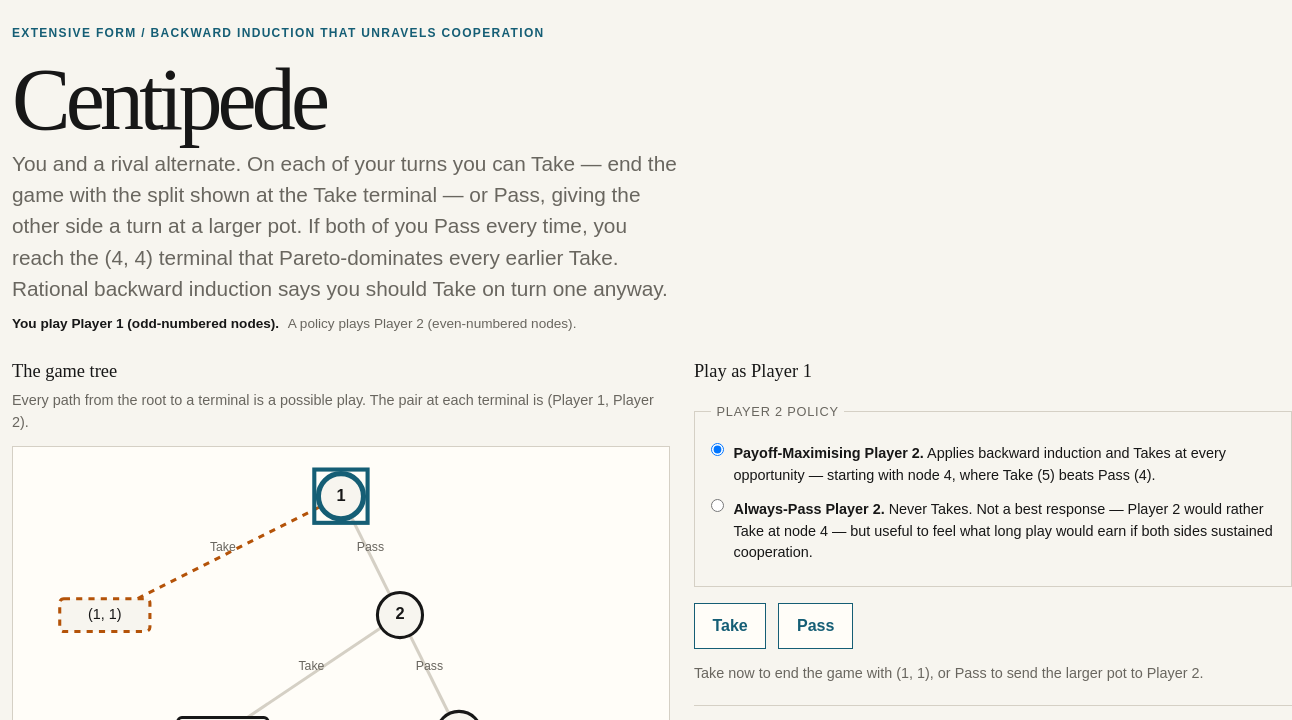
extensive-form play surface — centipede › Take at node-1 ends the game with (1, 1)
Click the button "Take": (730, 626) [694,603,766,649]
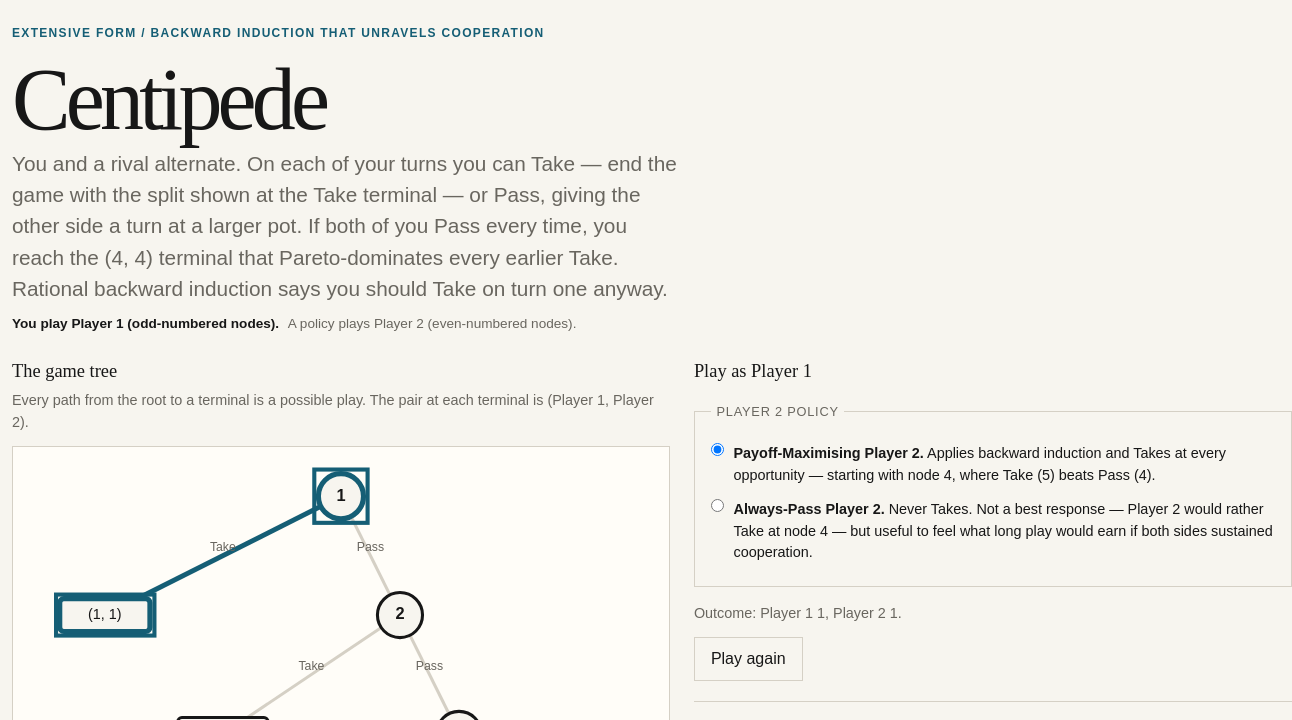
Expected: the text "Outcome: Player 1 1, Player 2 1." is shown, [694,605,902,621]
